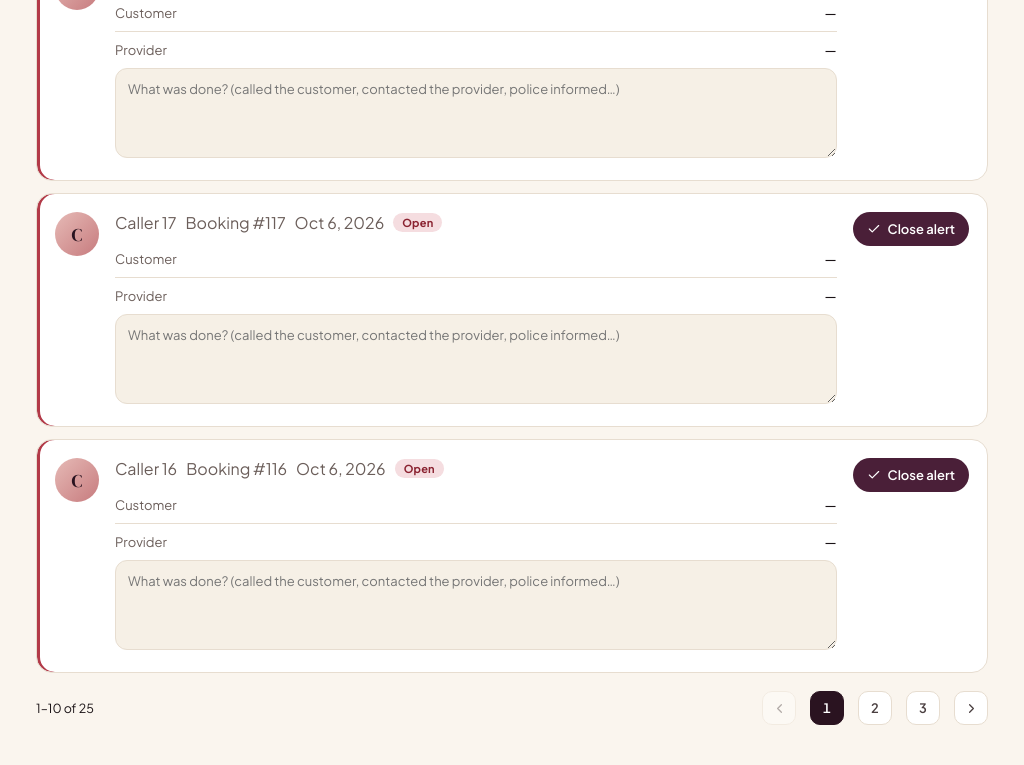
Test: <Safety> - the oldest-open-alert banner (R6-03) › paging and changing the search keep the banner on the global oldest alert
(page scrolled)
Click the button named "Page 2" at (875,708), box [858, 691, 892, 725]
(page scrolled)
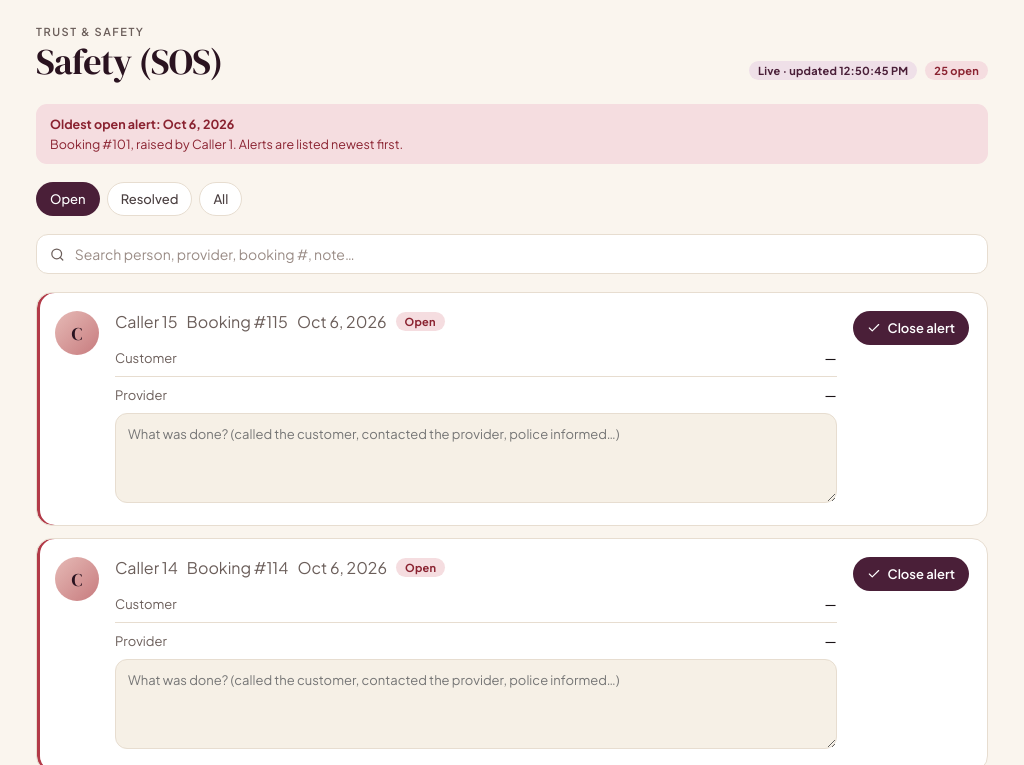
Type "caller 2" into the field with placeholder "Search person, provider, booking #, note…" at (523,254), box [73, 244, 974, 264]
Wait 400 ms
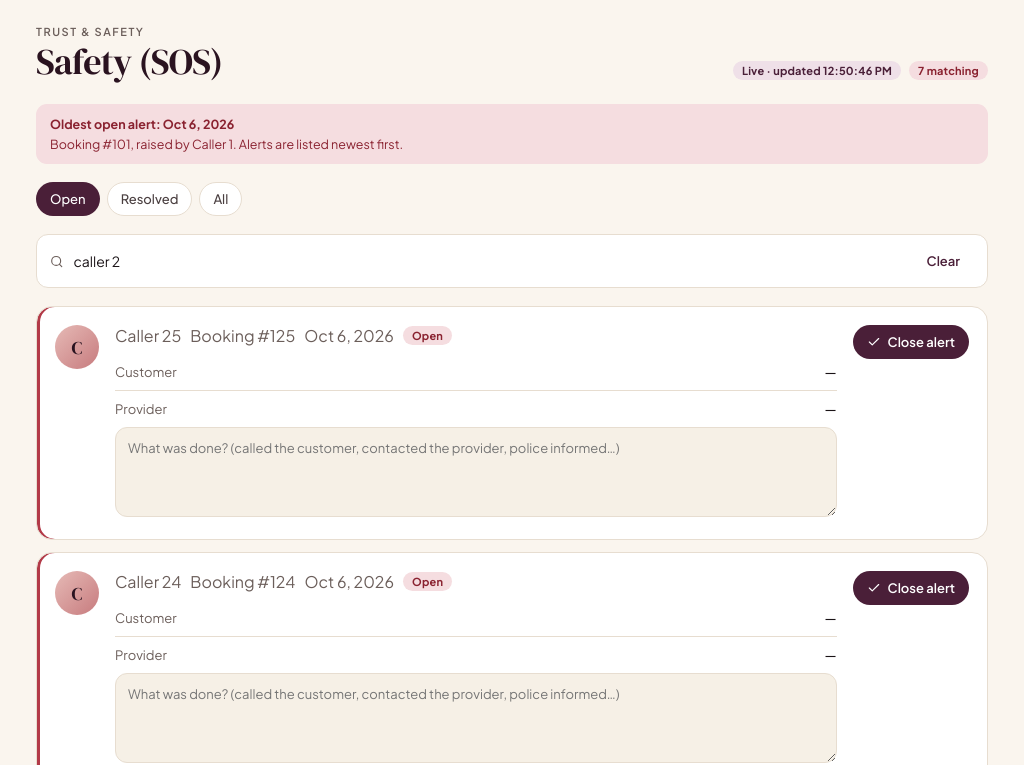
Replace the text in the field with placeholder "Search person, provider, booking #, note…" with "zzz-no-one" at (486,261), box [72, 251, 901, 271]
Wait 400 ms
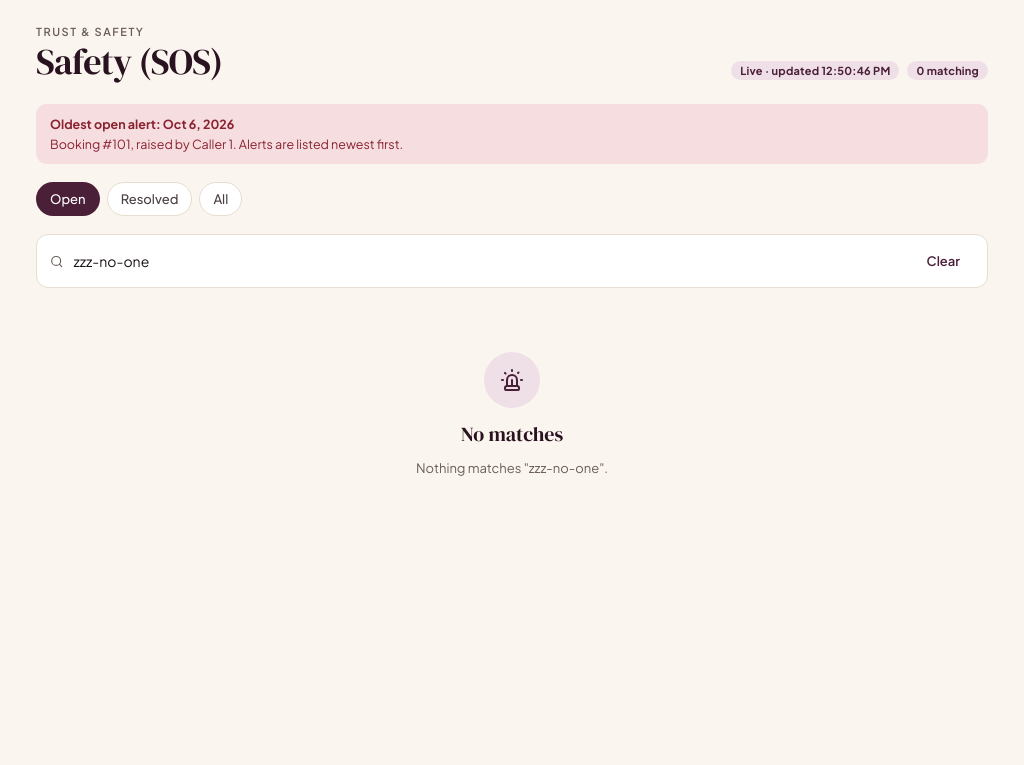
Expected: the text "No matches" is shown, [461, 420, 563, 448]
